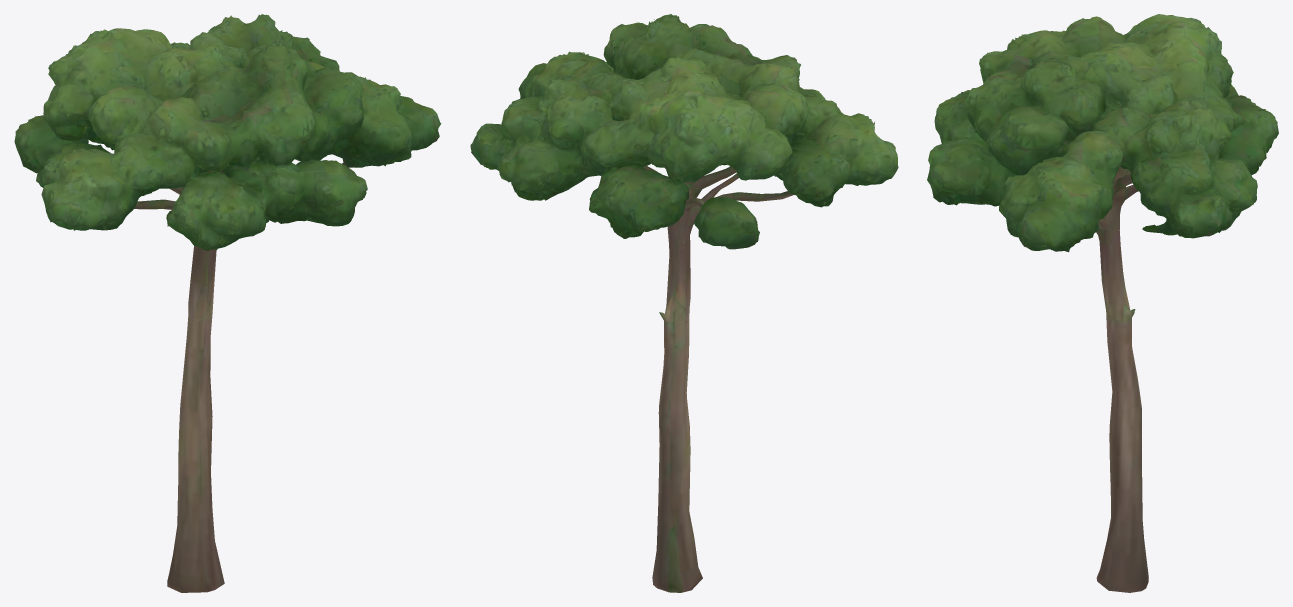
File: stone-pine.glb
3 renders of one model, left to right at view 1: azimuth 30°, elevation 25°; view 2: azimuth 150°, elevation 25°; view 3: azimuth 270°, elevation 25°, orthographic. The views are drawn at different scales.
Size of the model in its own units: 1.38 by 1.89 by 1.11.
1 material, 1 textured.
